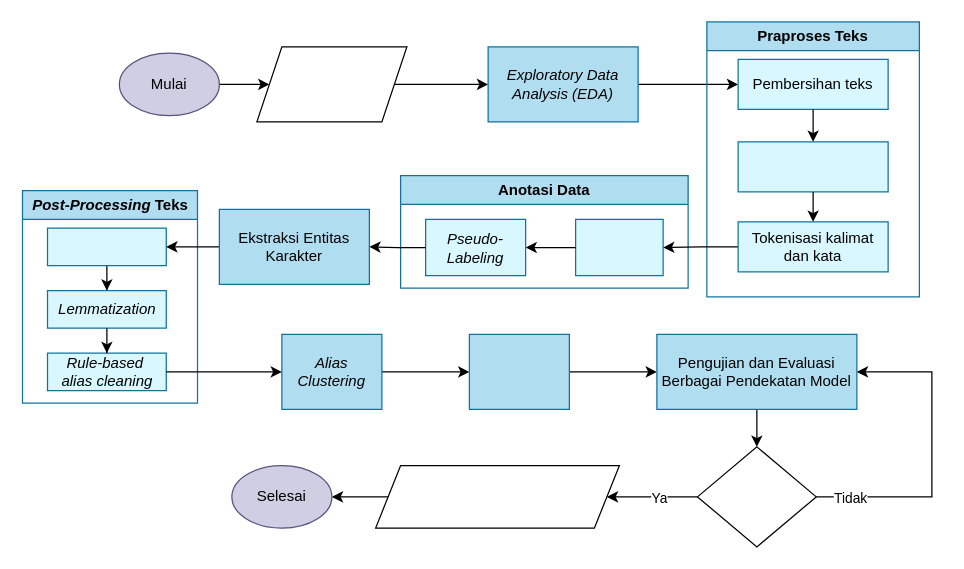
This 964x569 diagram has some shape labels left out. Here are the shapes that lost their labels. From the top down, the centre of each, then its label:
At (x=331, y=84): "Data Cerita Rakyat".
At (x=812, y=166): "Standarisasi Tanda Baca".
At (x=106, y=246): "Lowercasing".
At (x=618, y=247): "Manual Labeling".
At (x=518, y=371): "Klasifikasi Tipe Karakter".
At (x=496, y=496): "Hasil Klasifikasi Tipe Karakter dengan Model Terbaik".
At (x=756, y=496): "Apakah model sudah baik?".
